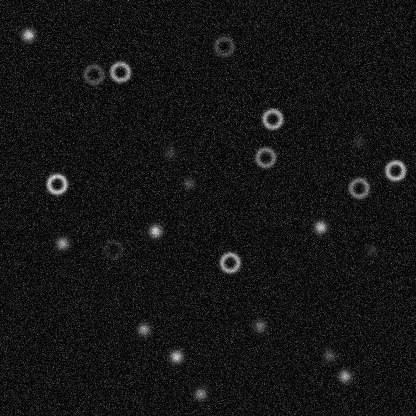Ring: (217, 250, 241, 274), (108, 59, 132, 83), (253, 145, 277, 169), (383, 158, 407, 182), (346, 175, 370, 199), (260, 106, 284, 130), (44, 171, 68, 195), (211, 34, 235, 58), (100, 237, 124, 261), (81, 62, 105, 86)
Spot: (251, 318, 267, 334), (20, 26, 36, 42), (312, 219, 328, 235), (192, 385, 208, 401), (321, 347, 337, 363), (350, 133, 366, 149), (168, 348, 184, 364), (363, 242, 379, 258), (180, 175, 196, 191), (161, 144, 177, 160), (54, 235, 70, 251), (336, 367, 352, 383), (135, 321, 151, 337), (147, 222, 163, 238)
